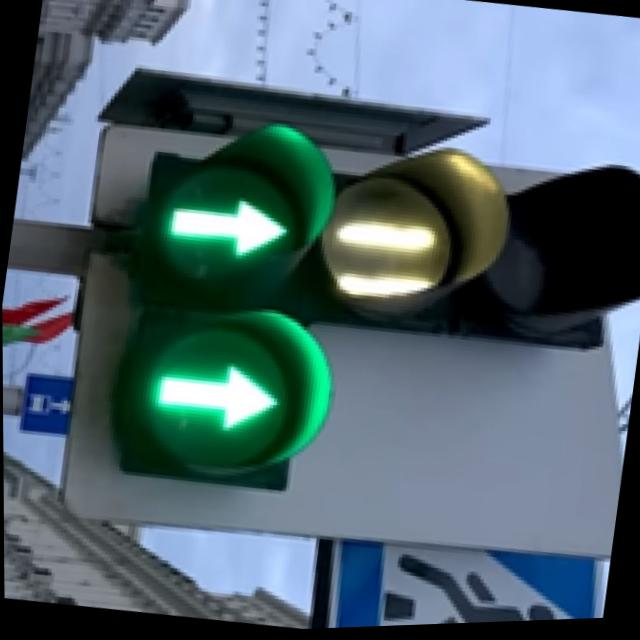green_light: (130, 267, 347, 524)
